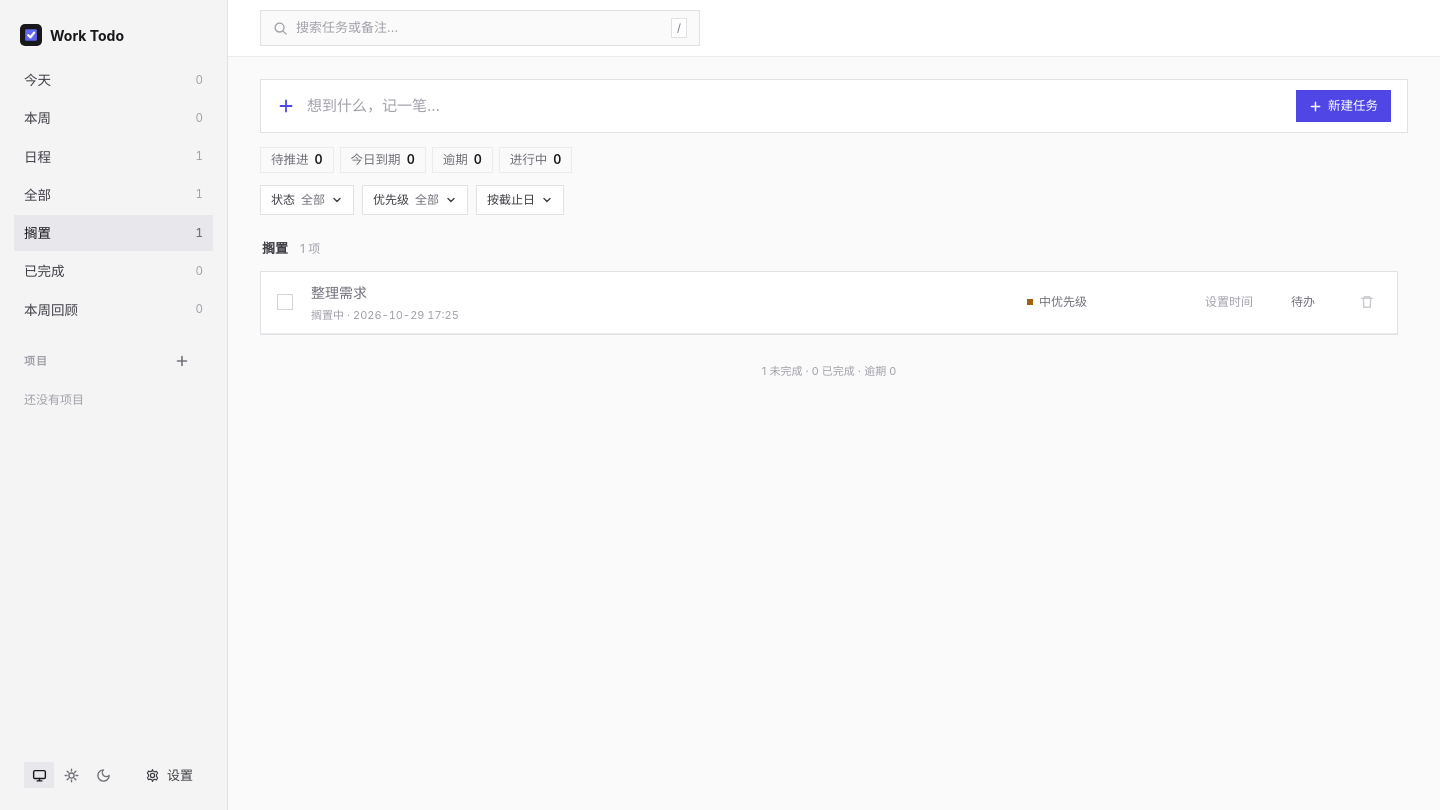
Test case: 搁置视图 › 路由 /shelved 只列搁置任务，经批量条恢复并回到普通视图
Check: the heading with id "list-title" reads "搁置", box [262,240,288,256]
Check: the number of elements with class "task-card" is 1, box [261,272,1397,334]
Step 1. Click the button with class "select-check" → {"x": 285, "y": 302}, box [277,294,293,310]
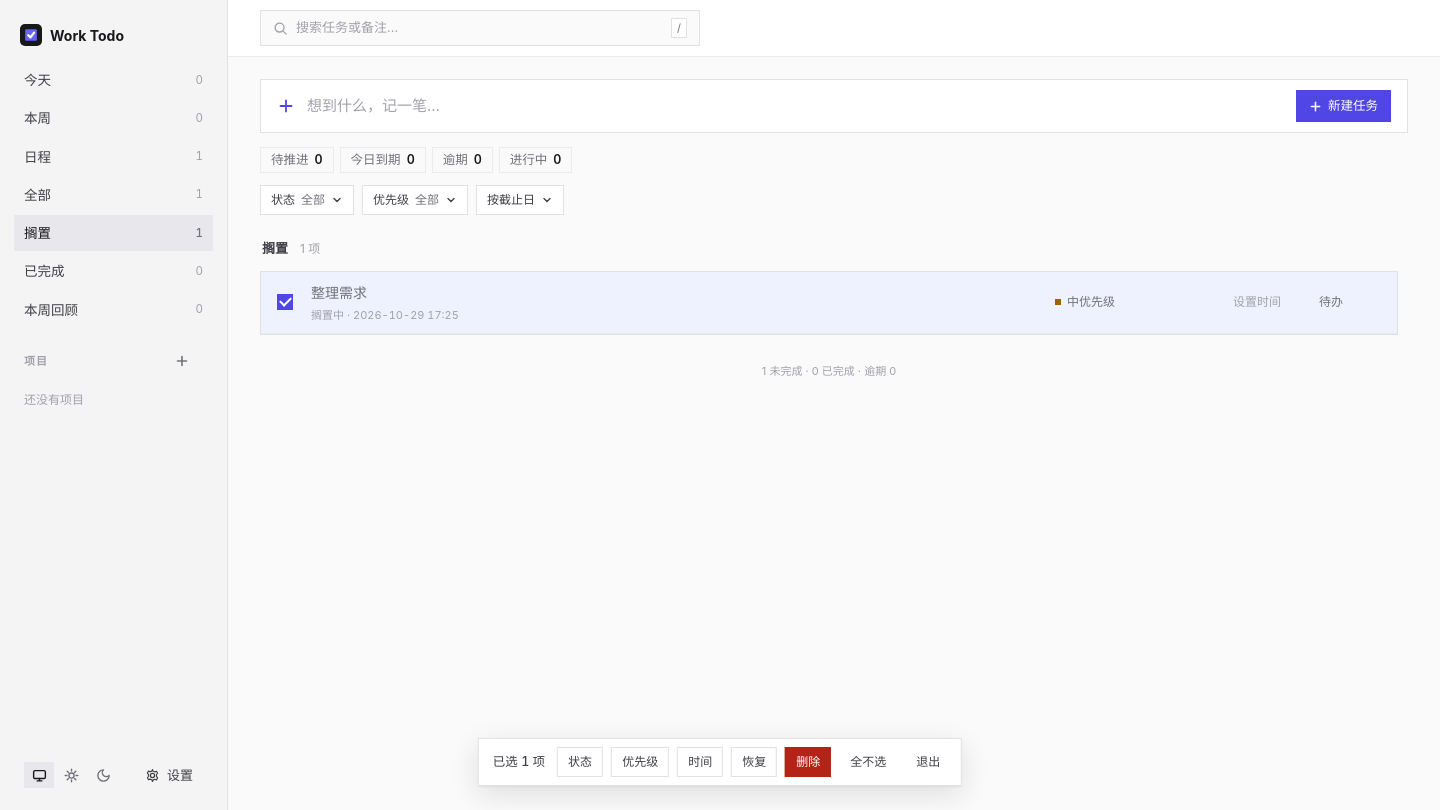
Check: the button "恢复" is shown
Step 2. Click the button "恢复" → {"x": 754, "y": 762}, box [731,747,777,777]
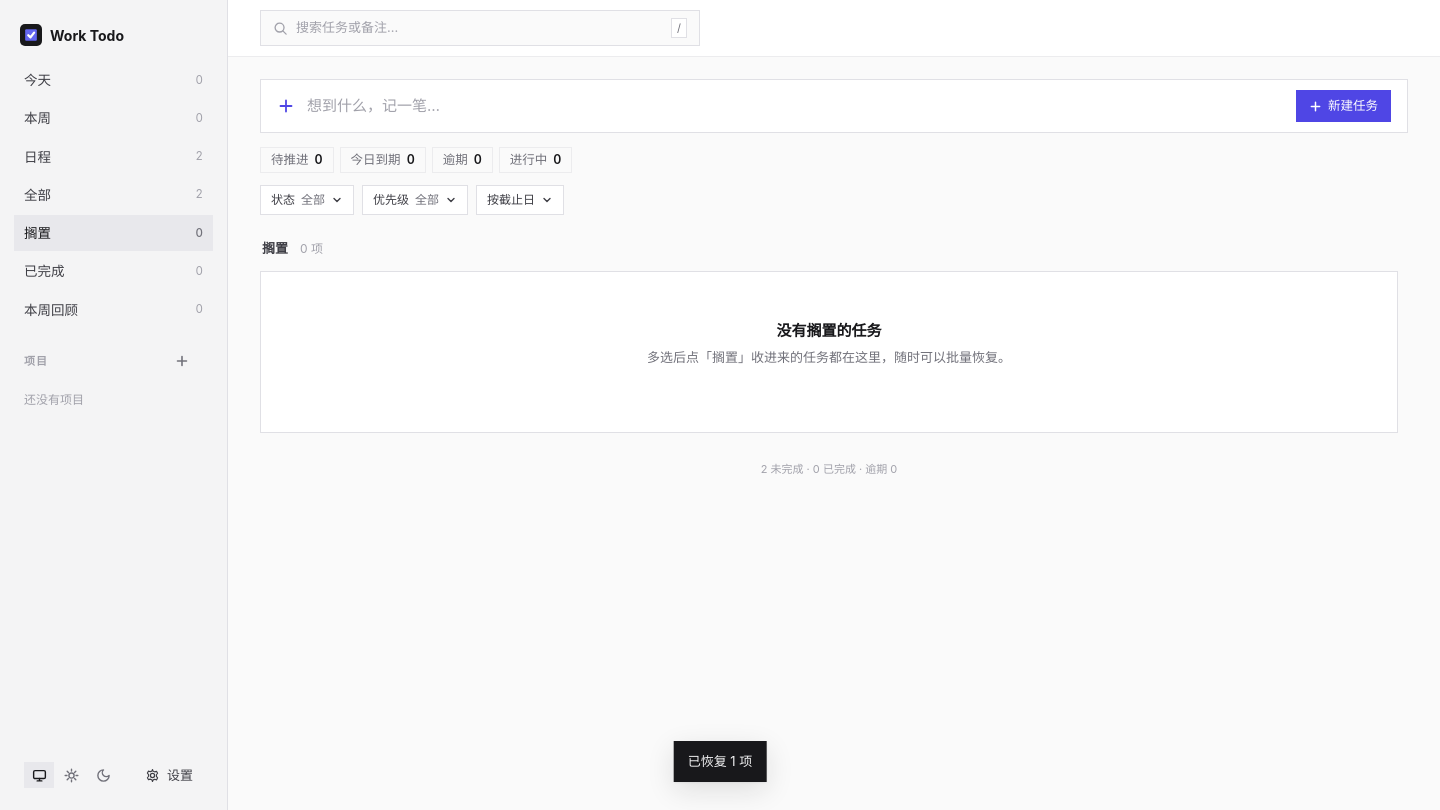
Check: the message with id "toast" reads "已恢复 1 项", box [688,752,752,768]
Check: no elements with class "task-card" are shown
